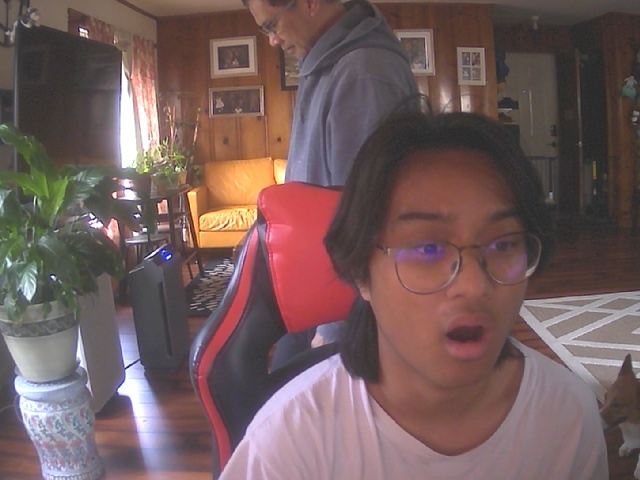fear: (346, 123, 549, 395)
